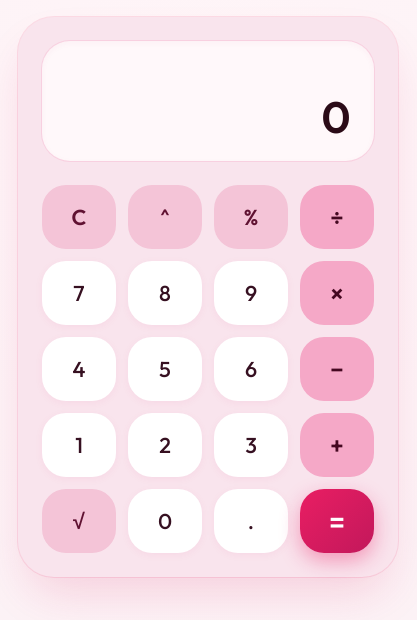
Test: Calculator Component › clears state when C button is pressed
The image size is (417, 620).
What coordinates should you click on to do the following:
click the button "9"
I would click on:
 (251, 293)
Its box is 214,261 -> 288,325.
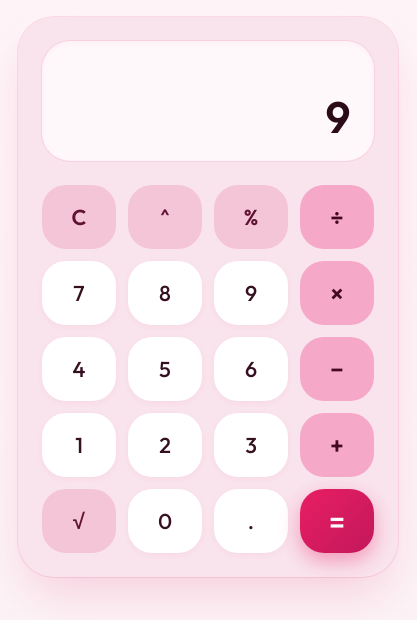
What coordinates should you click on to do the following:
click the button "9"
I would click on:
 (251, 293)
Its box is 214,261 -> 288,325.
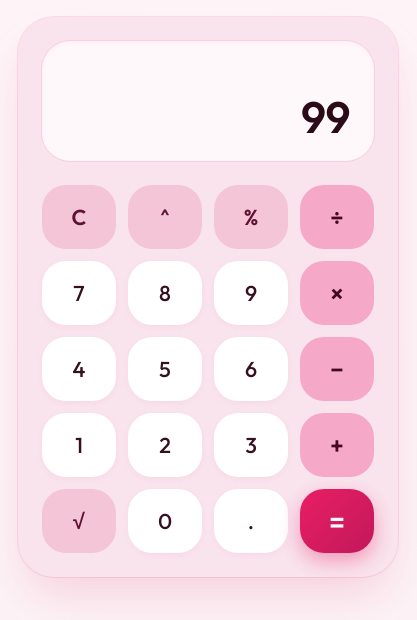
Expected: the text "99" is shown, 301,89 -> 350,144
What coordinates should you click on to do the following:
click the button named "Clear display"
I would click on:
 (79, 217)
Its box is 42,185 -> 116,249.
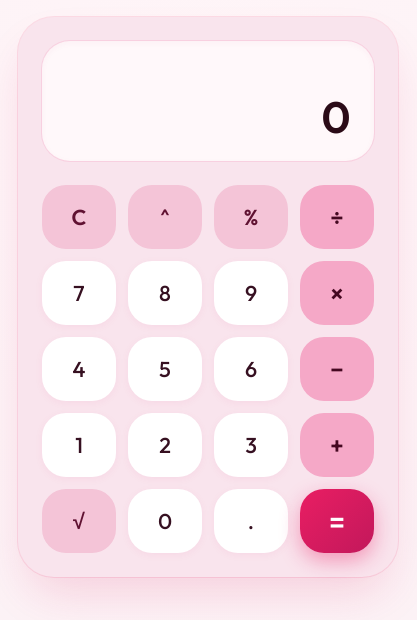
Expected: the text "0" is shown, 322,89 -> 350,144
